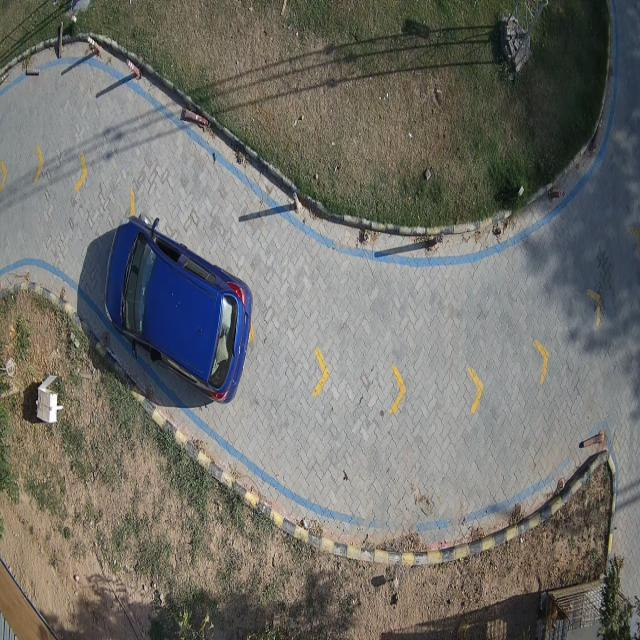car: (105, 218, 252, 401)
